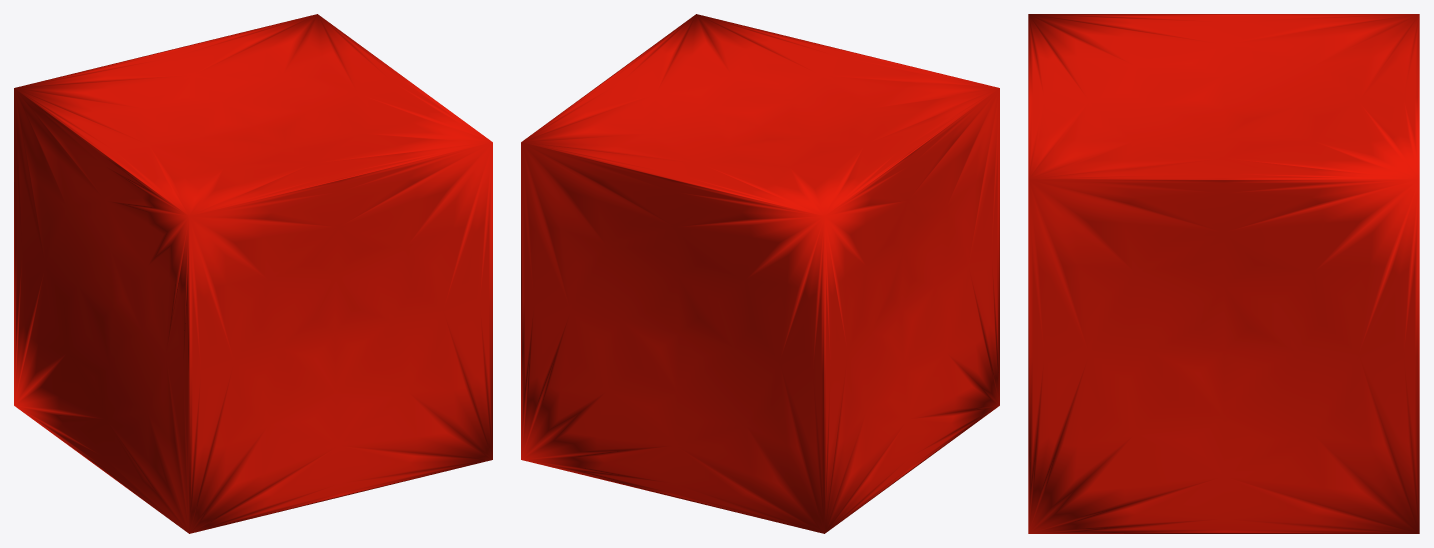
Rendered from assetcube.glb.
3 renders of one model, left to right at view 1: azimuth 30°, elevation 25°; view 2: azimuth 150°, elevation 25°; view 3: azimuth 270°, elevation 25°, orthographic. The views are drawn at different scales.
Visible parts, largest first — view 1: Cube.002; view 2: Cube.002; view 3: Cube.002.
Boxes of the visible parts, x1,y1,x2,y2 form: Cube.002: [14, 14, 492, 533]; Cube.002: [521, 14, 999, 533]; Cube.002: [1028, 14, 1419, 533].
Size of the model in its own units: 2 by 2 by 2.
